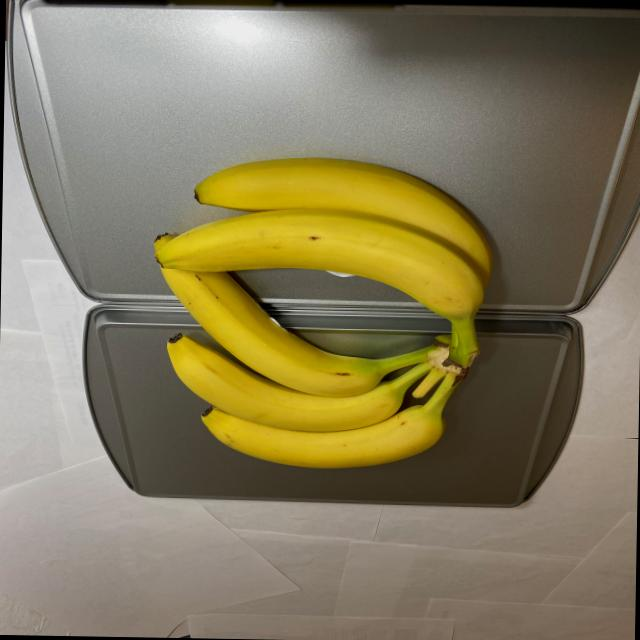banana: (153, 152, 502, 470)
